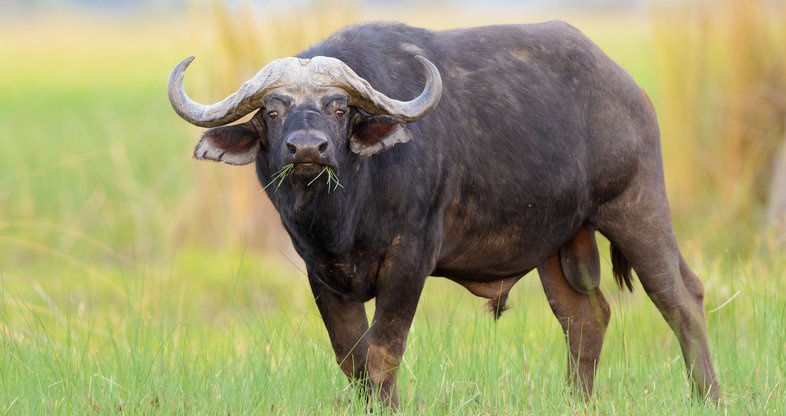buffalo: (167, 19, 726, 415)
